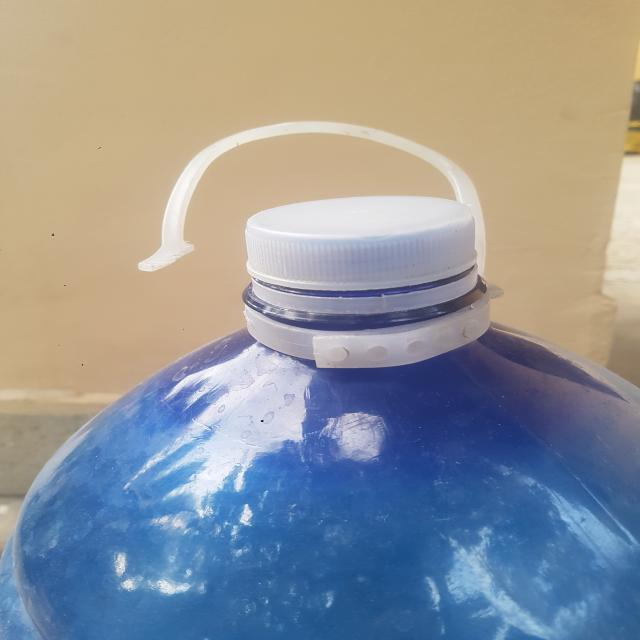general: (1, 121, 638, 638)
